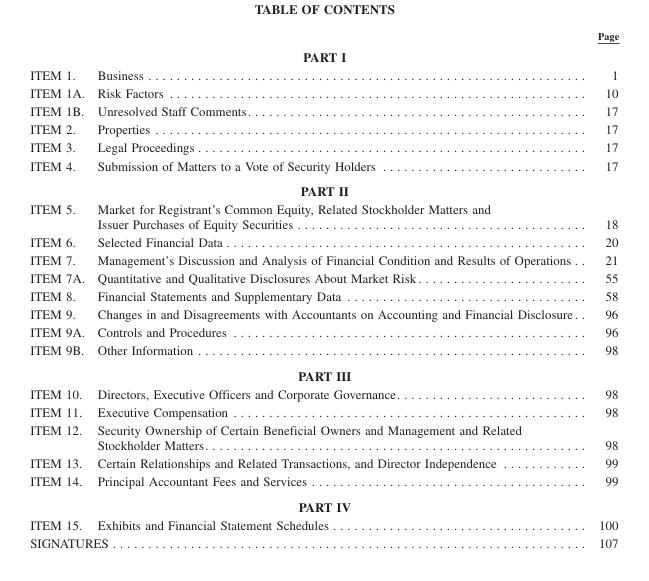table: (29, 29, 618, 549)
table column: (102, 29, 586, 549), (29, 29, 102, 549), (586, 29, 618, 549)
table column header: (29, 29, 618, 45)
table projected row header: (29, 177, 618, 200), (29, 362, 618, 384), (29, 493, 618, 515), (29, 45, 618, 65)
table row: (29, 420, 618, 453), (29, 200, 618, 232), (29, 177, 618, 200), (29, 340, 618, 362), (29, 362, 618, 384), (29, 471, 618, 493), (29, 493, 618, 515), (29, 156, 618, 177), (29, 45, 618, 65), (29, 137, 618, 156), (29, 65, 618, 83), (29, 83, 618, 101), (29, 101, 618, 119), (29, 119, 618, 137), (29, 232, 618, 250), (29, 250, 618, 268), (29, 268, 618, 286), (29, 286, 618, 304), (29, 304, 618, 322), (29, 322, 618, 340), (29, 384, 618, 402), (29, 402, 618, 420), (29, 453, 618, 471), (29, 515, 618, 533), (29, 29, 618, 45), (29, 533, 618, 549)
